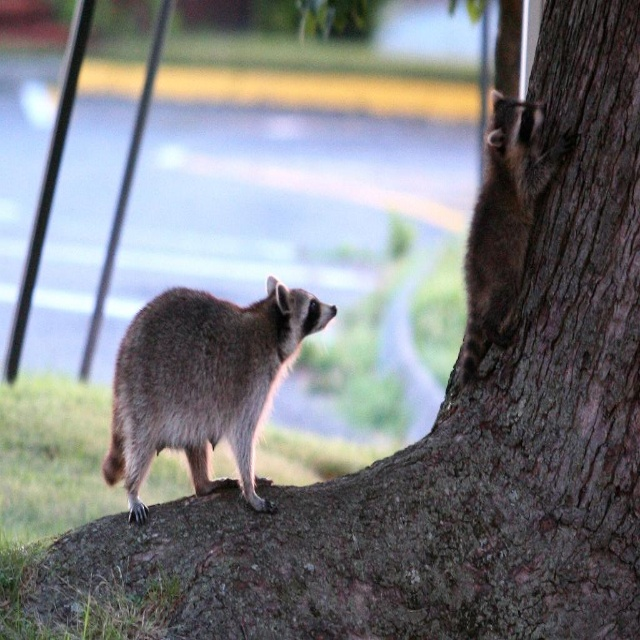Raccoon: (101, 275, 337, 527)
